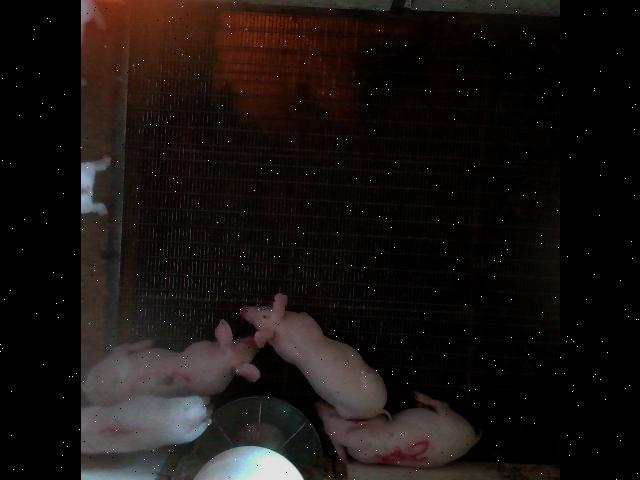pig-1: (82, 395, 210, 454)
pig-3: (82, 320, 259, 406)
pig-5: (314, 391, 481, 468)
